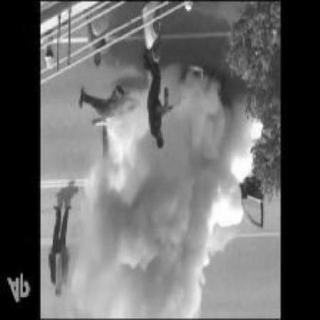Smoke: (58, 70, 271, 320)
